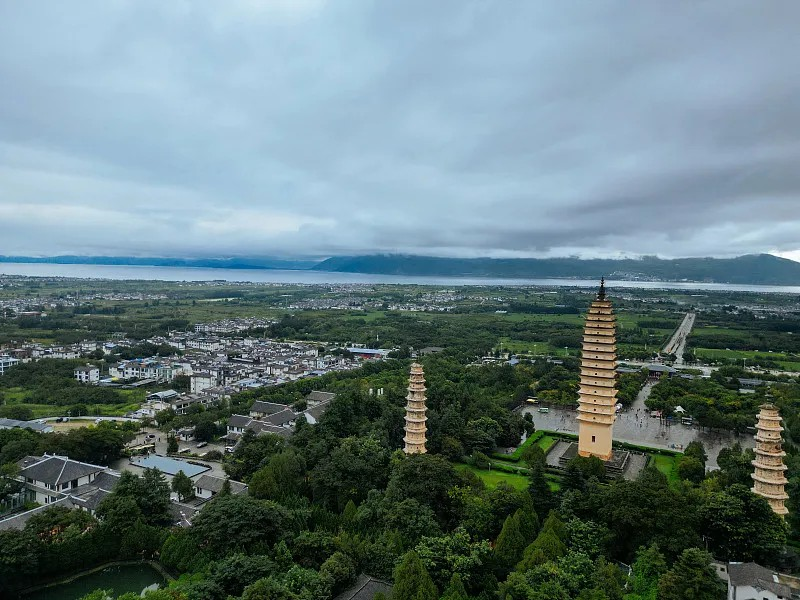ThreePagoda: (576, 276, 619, 461)
